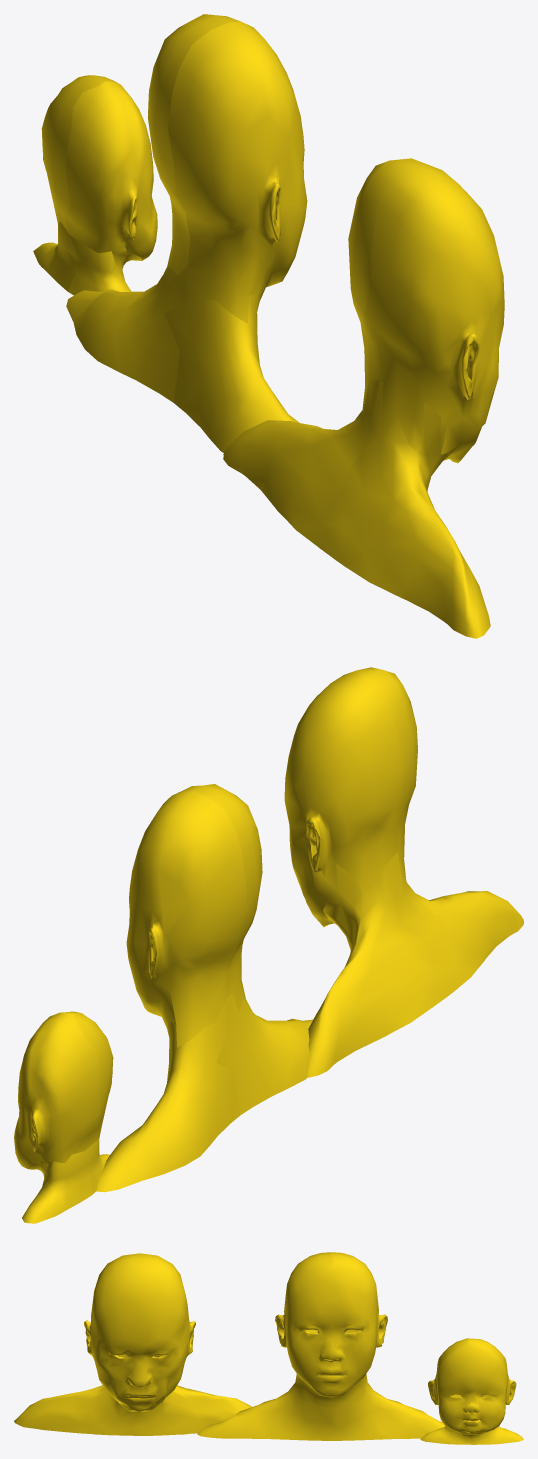
File: 3dae.obj
3 renders of one model, top to bottom at view 1: azimuth 30°, elevation 25°; view 2: azimuth 150°, elevation 25°; view 3: azimuth 270°, elevation 25°, orthographic. The views are drawn at different scales.
Parts seen in each view (by area): view 1: object_1; view 2: object_1; view 3: object_1.
Boxes of the visible parts, x1=… form: object_1: x1=33, y1=14, x2=504, y2=638; object_1: x1=14, y1=667, x2=523, y2=1223; object_1: x1=14, y1=1252, x2=523, y2=1444.
Size of the model in its own units: 355 by 787 by 1984.
